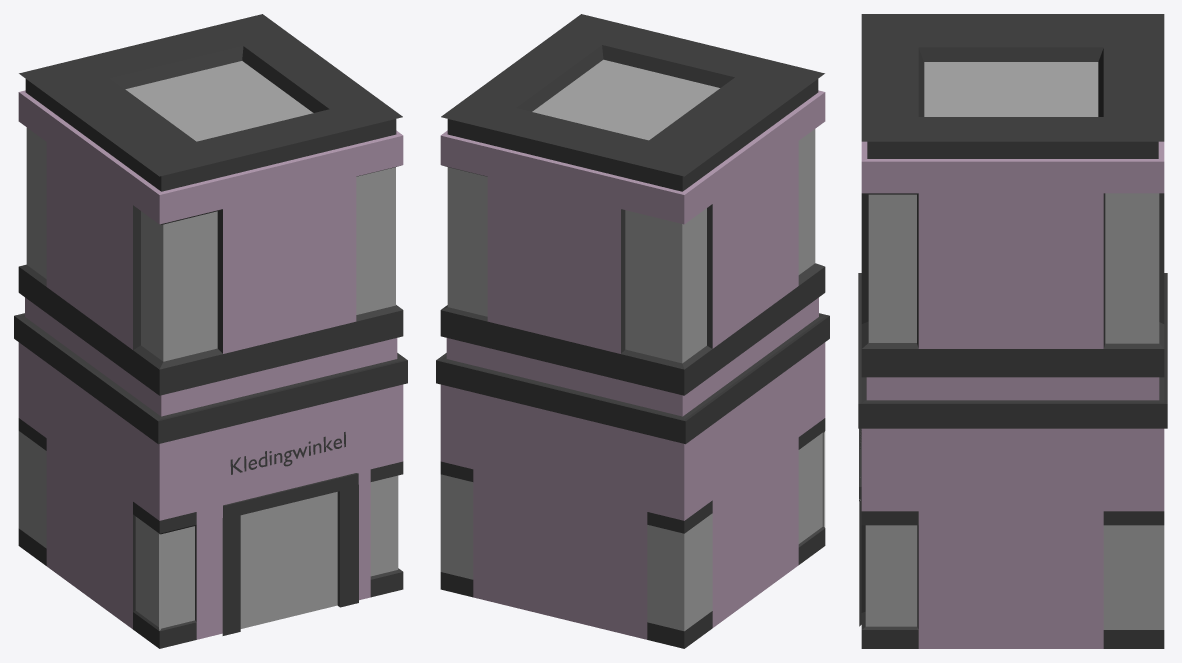
Rendered from kledingwinkel.fbx.
The picture shows the model from 3 angles, left to right: view 1: azimuth 30°, elevation 25°; view 2: azimuth 150°, elevation 25°; view 3: azimuth 270°, elevation 25°; orthographic projection. The views are drawn at different scales.
Parts seen in each view (by area): view 1: Cube, Text; view 2: Cube; view 3: Cube.
Boxes of the visible parts, bbox=[...] form: Cube: bbox=[14, 14, 407, 648]; Text: bbox=[230, 432, 345, 474]; Cube: bbox=[436, 14, 829, 648]; Cube: bbox=[858, 14, 1167, 648].
Bounding box in the file's own units: 1190 × 2158 × 1190.
